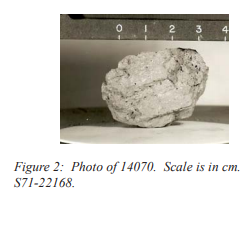Breccia: (89, 40, 203, 125)
